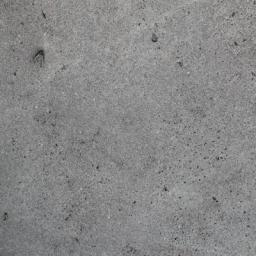FOD: (32, 48, 47, 72)
